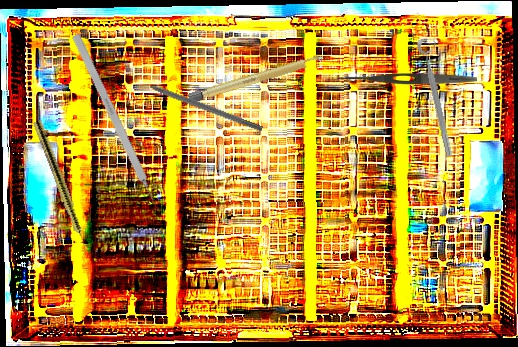Dressing Forceps: (337, 73, 477, 85)
Fixation Ring: (415, 36, 463, 158)
Handpiece: (31, 119, 92, 256)
Hook Surgical: (71, 33, 164, 216), (133, 75, 264, 133)
Scalpel Handle: (187, 52, 326, 105)
